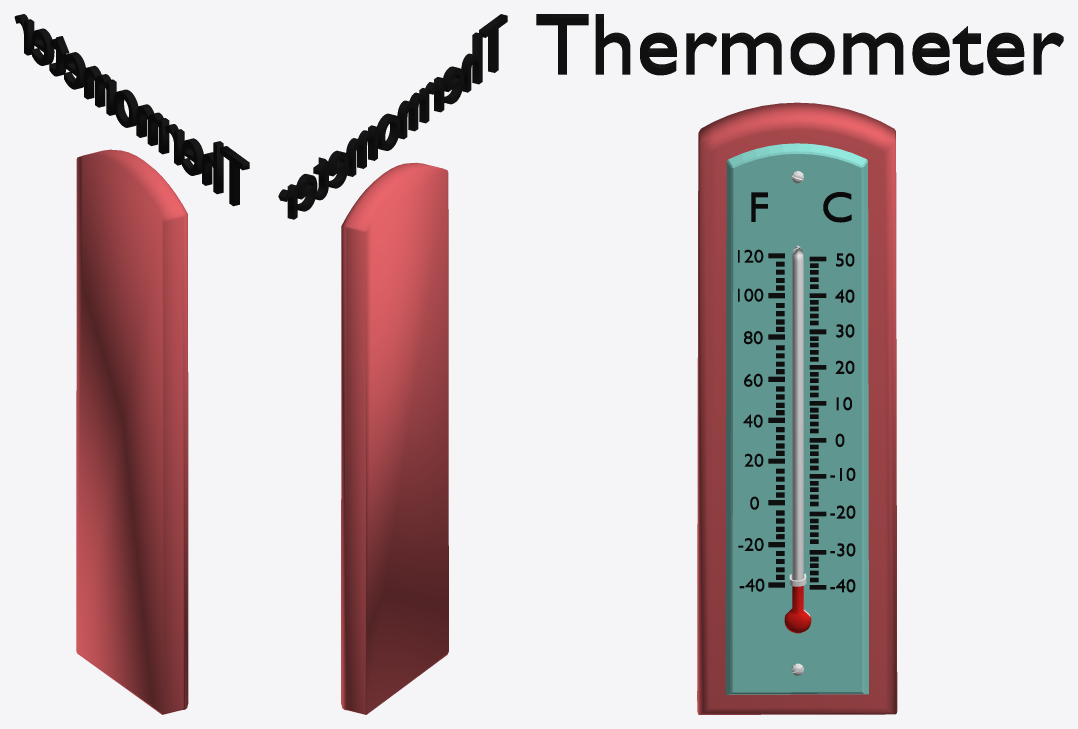
Rendered from Thermometer.gltf.
3 views of the same model, side by side, from view 1: azimuth 30°, elevation 25°; view 2: azimuth 150°, elevation 25°; view 3: azimuth 270°, elevation 25° (orthographic). The views are drawn at different scales.
Visible parts, largest first — view 1: Thermometer, Text.019; view 2: Thermometer, Text.019; view 3: Cylinder.001, Thermometer, Text.019, Cube.001, Sphere.003.
Boxes of the visible parts, bbox=[...] form: Thermometer: bbox=[76, 149, 188, 714]; Text.019: bbox=[14, 14, 249, 206]; Thermometer: bbox=[341, 162, 448, 714]; Text.019: bbox=[278, 14, 507, 219]; Cylinder.001: bbox=[725, 143, 868, 694]; Thermometer: bbox=[697, 102, 897, 714]; Text.019: bbox=[536, 14, 1063, 75]; Cube.001: bbox=[768, 253, 826, 589]; Sphere.003: bbox=[784, 245, 811, 633].
Bounding box in the file's own units: 0.1846 × 2.14 × 1.48.
